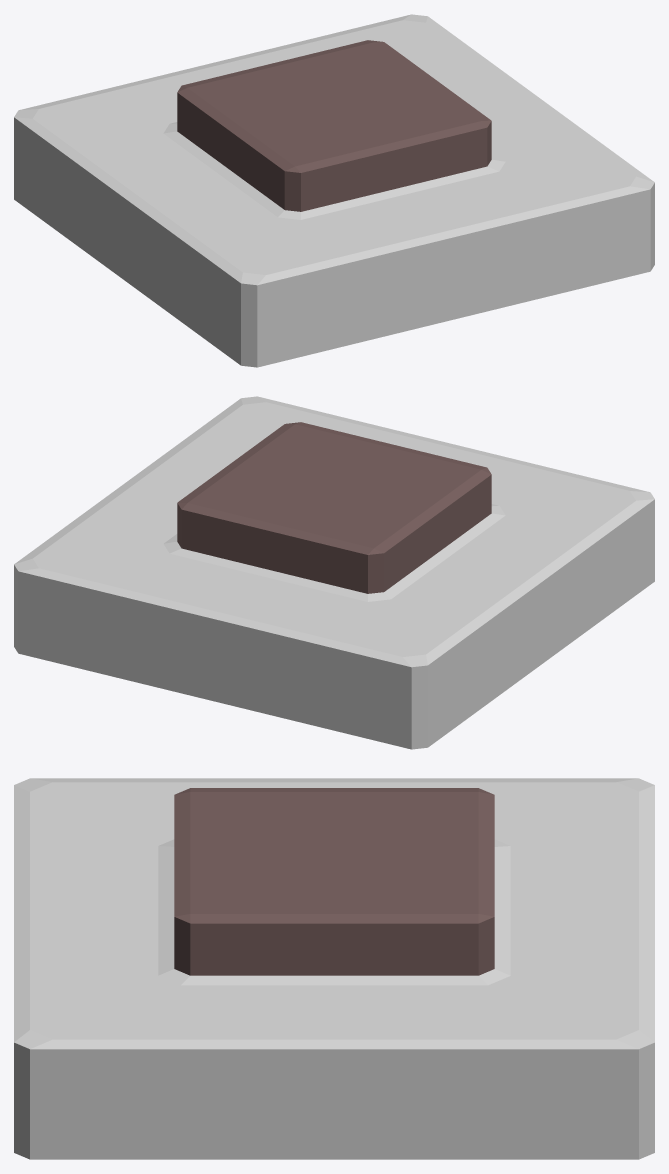
File: Bouton.fbx
3 views of the same model, one above another, from view 1: azimuth 30°, elevation 25°; view 2: azimuth 150°, elevation 25°; view 3: azimuth 270°, elevation 25° (orthographic). The views are drawn at different scales.
Visible parts, largest first — view 1: Bouton; view 2: Bouton; view 3: Bouton.
Part boxes in pixels (bbox=[...]): Bouton: bbox=[14, 14, 654, 367]; Bouton: bbox=[14, 396, 654, 749]; Bouton: bbox=[14, 778, 654, 1159].
Bounding box in the file's own units: 200 × 59.97 × 200.
